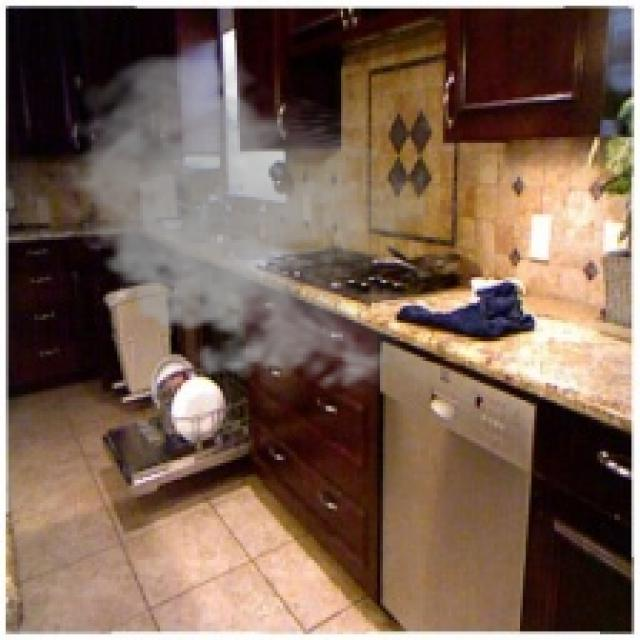smoke: (54, 46, 429, 400)
